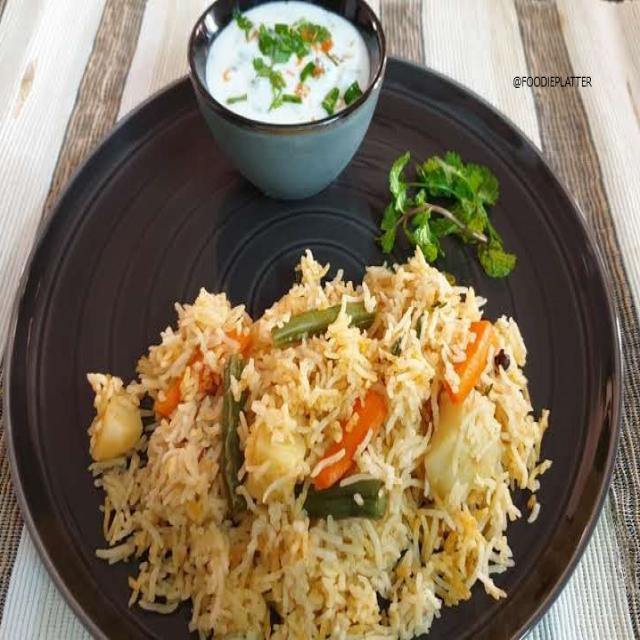veg palav: (73, 233, 562, 640)
